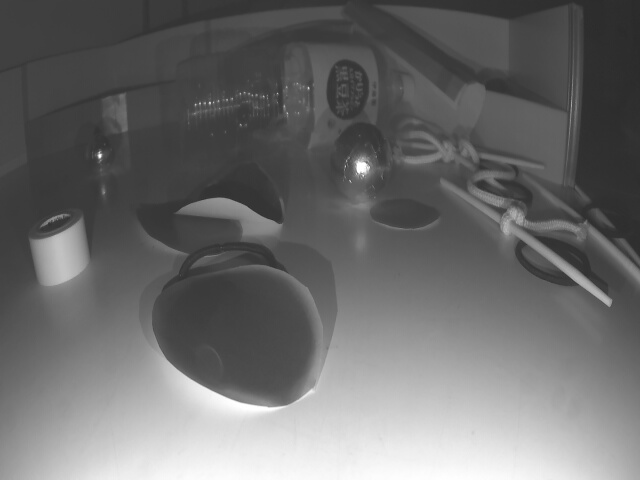Live: (333, 122, 389, 202), (86, 132, 112, 172)
Point: (28, 78, 181, 166)
